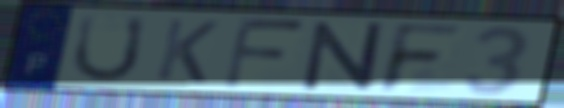3: (462, 24, 536, 98)
F: (219, 15, 310, 91), (375, 21, 468, 95)
K: (151, 16, 223, 86)
N: (300, 20, 386, 92)
U: (67, 13, 151, 85)
